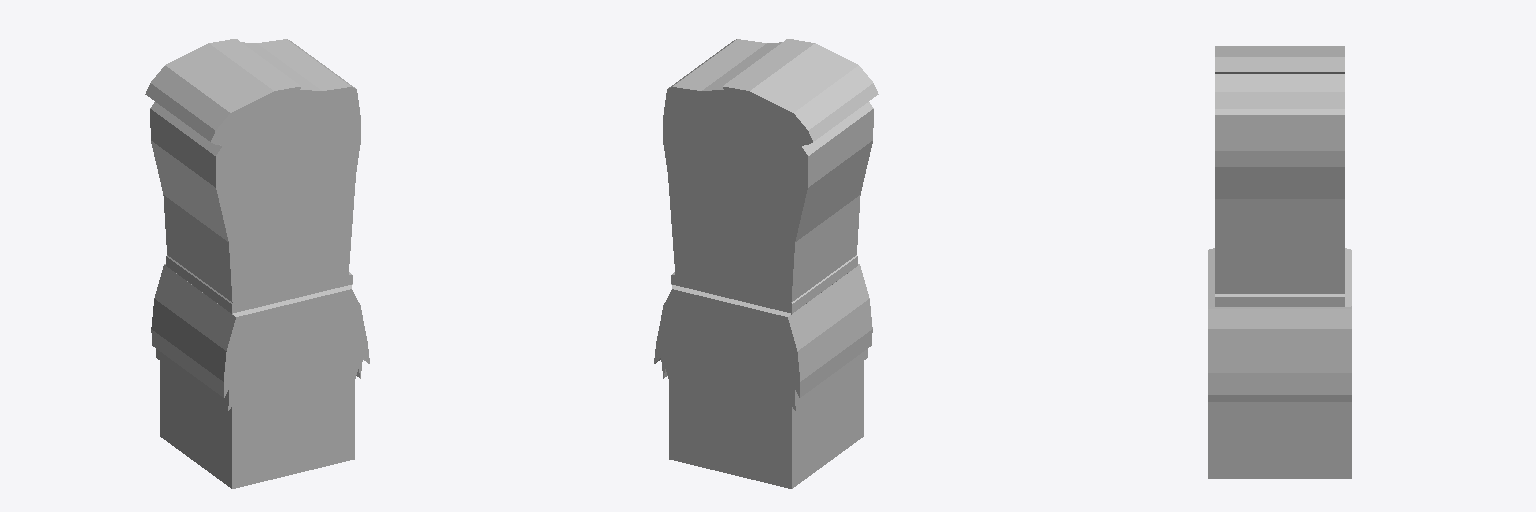
File: Grog.obj
The picture shows the model from 3 angles: view 1: azimuth 30°, elevation 25°; view 2: azimuth 150°, elevation 25°; view 3: azimuth 270°, elevation 25°; orthographic projection.
Parts seen in each view (by area): view 1: Cube.000_Cube.001; view 2: Cube.000_Cube.001; view 3: Cube.000_Cube.001.
Part boxes in pixels (bbox=[...]): Cube.000_Cube.001: bbox=[145, 39, 369, 488]; Cube.000_Cube.001: bbox=[654, 39, 878, 488]; Cube.000_Cube.001: bbox=[1208, 46, 1351, 478].
Bounding box in the file's own units: 0.5662 × 1.33 × 0.4537.